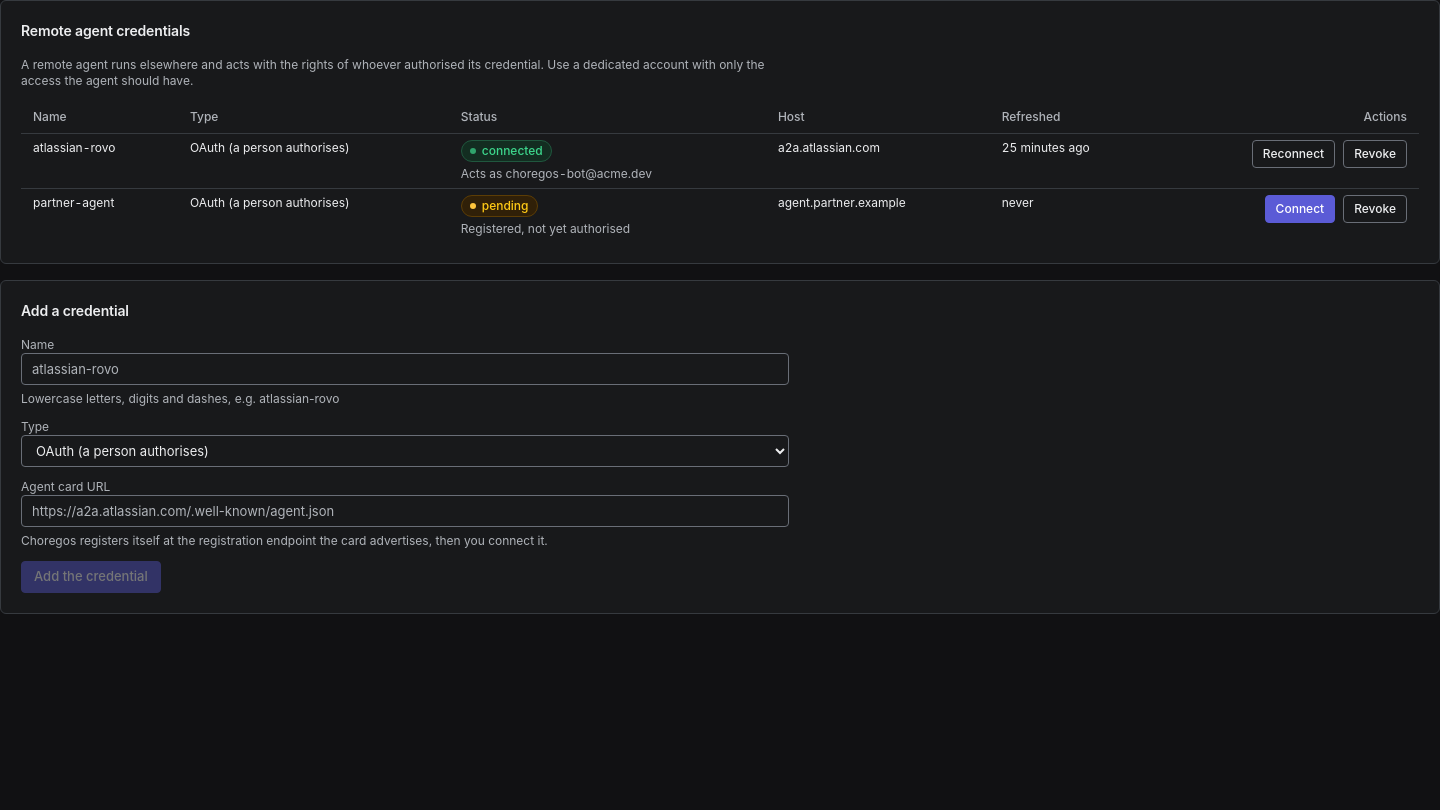
Test: the remote credentials page (ADR 0062) › an error from the provider stays on the page
Click the button "Connect" at (1300, 209), box [1265,195,1335,223]
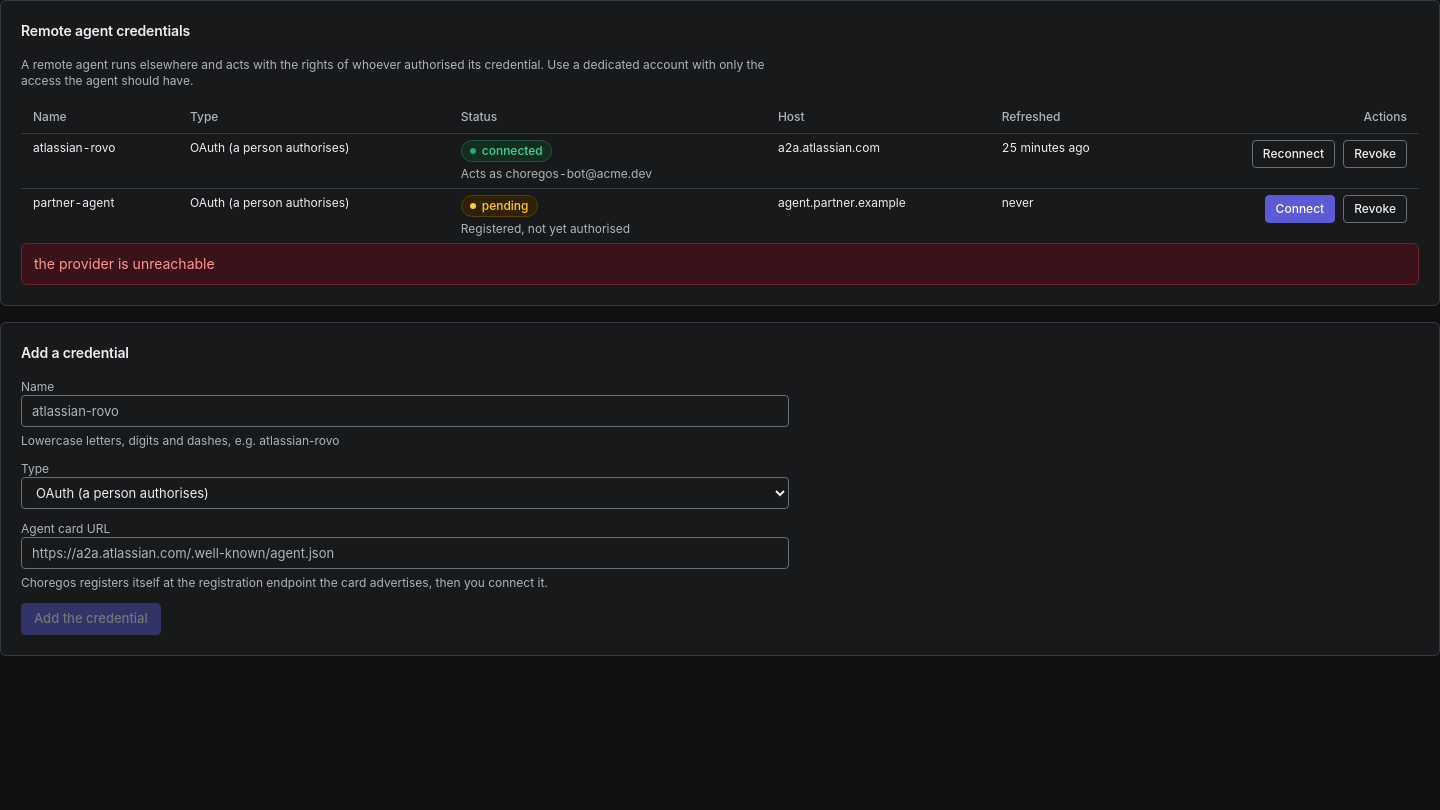
Expected: the text "the provider is unreachable" is shown, [34,255,215,272]
